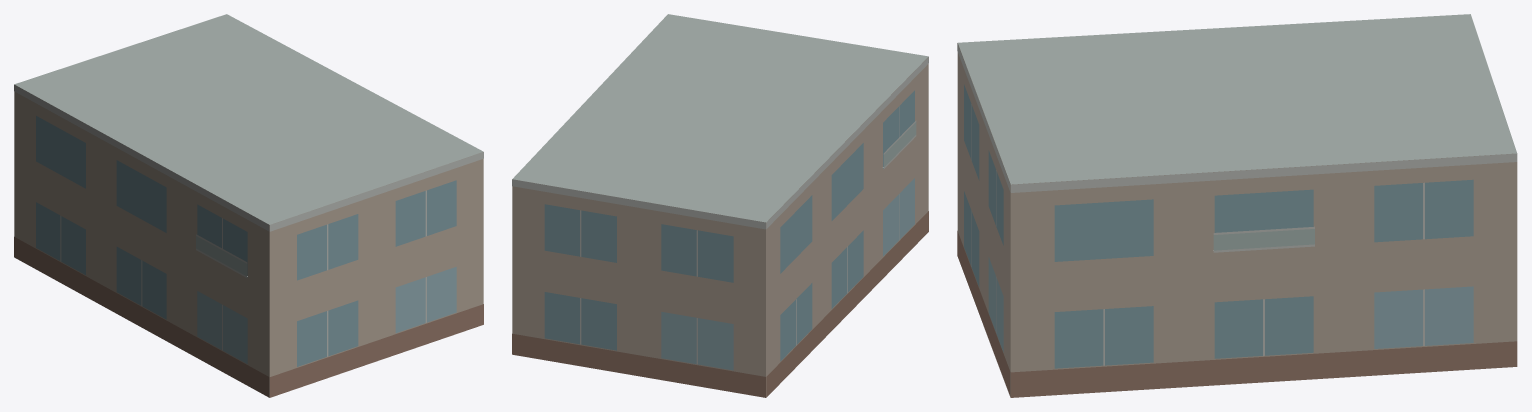
The model's file is survey-upis-32700468.glb.
The picture shows the model from 3 angles, left to right: view 1: azimuth 30°, elevation 25°; view 2: azimuth 150°, elevation 25°; view 3: azimuth 270°, elevation 25°; orthographic projection. The views are drawn at different scales.
Parts seen in each view (by area): view 1: survey-upis-32700468.tmp; view 2: survey-upis-32700468.tmp; view 3: survey-upis-32700468.tmp.
Boxes of the visible parts, x1=… form: survey-upis-32700468.tmp: x1=14, y1=14, x2=483, y2=397; survey-upis-32700468.tmp: x1=512, y1=14, x2=928, y2=397; survey-upis-32700468.tmp: x1=957, y1=14, x2=1517, y2=397.
Size of the model in its own units: 10.47 by 6.1 by 14.51.
